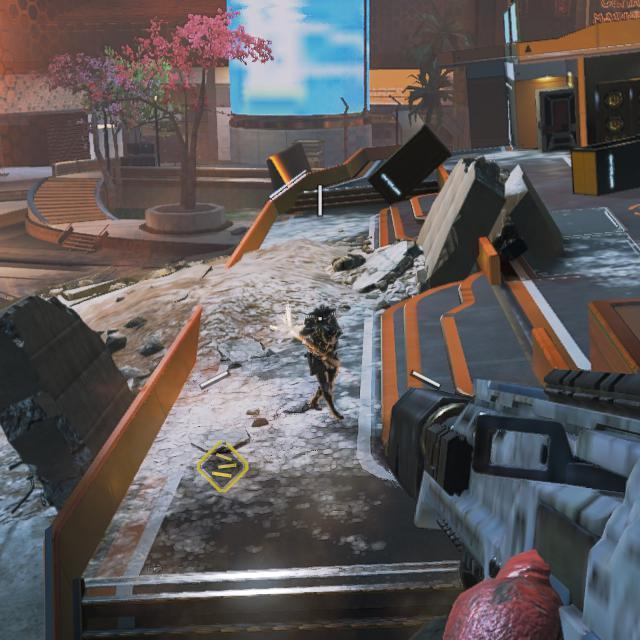avatar: (293, 304, 345, 419)
